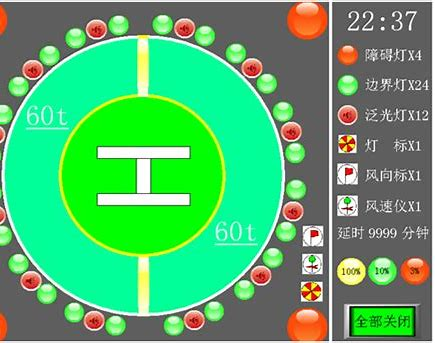H: (97, 145, 191, 207)
